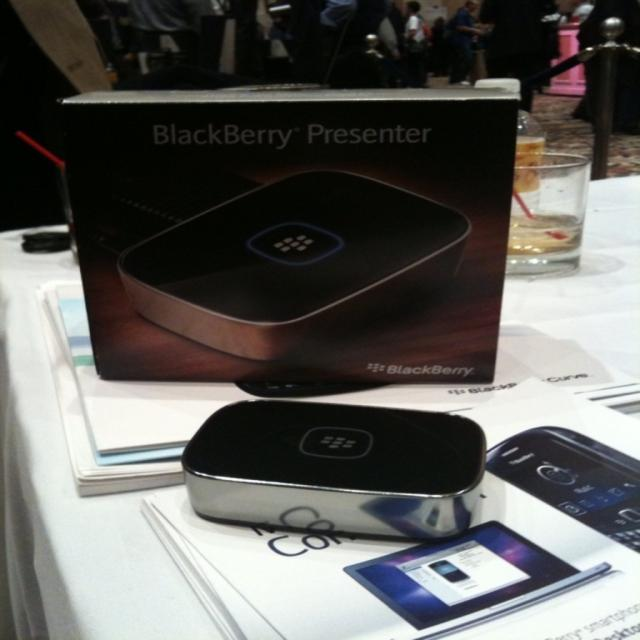Mobile-phone: (480, 420, 639, 554)
